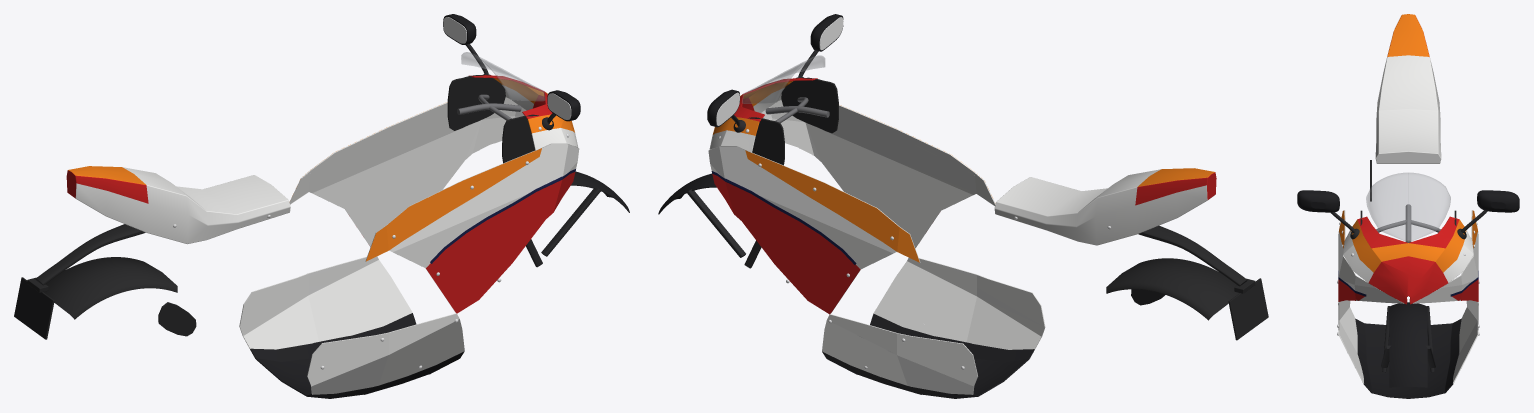
File: bike_superbike__bodywork.glb
The picture shows the model from 3 angles, left to right: view 1: azimuth 30°, elevation 25°; view 2: azimuth 150°, elevation 25°; view 3: azimuth 270°, elevation 25°; orthographic projection. The views are drawn at different scales.
Parts seen in each view (by area): view 1: frame_body__fairing__side_right, frame_body__tail_unit, frame_body__fairing__side_right__lower, frame_body__fairing__side_left__lower, frame_body__fairing__side_left__red, frame_body__fairing__side_left, frame_body__rear_hugger, frame_body__fairing__side_left__orange, frame_body__fairing__belly_pan, frame_body__fairing__inner_panels, frame_body__number_plate_hanger, frame_body__fairing__upper (+7 smaller); view 2: frame_body__fairing__side_left, frame_body__tail_unit, frame_body__fairing__side_left__lower, frame_body__fairing__side_right__lower, frame_body__fairing__side_right__red, frame_body__fairing__side_right, frame_body__rear_hugger, frame_body__fairing__side_right__orange, frame_body__fairing__belly_pan, frame_body__fairing__inner_panels, frame_body__number_plate_hanger, frame_body__fairing__upper (+7 smaller); view 3: frame_body__tail_unit, frame_body__fairing__upper, frame_body__fairing__screen, frame_body__fairing__belly_pan, frame_body__front_mudguard, frame_body__fairing__mirrors, frame_body__fairing__side_left, frame_body__fairing__side_right, frame_body__fairing__side_right__lower, frame_body__fairing__side_left__lower, frame_body__front_mudguard__brackets, frame_body__fairing__stay (+3 smaller).
Boxes of the visible parts, left/top/right/bottom form: frame_body__fairing__side_right: left=289, top=97, right=525, bottom=246; frame_body__tail_unit: left=66, top=166, right=290, bottom=244; frame_body__fairing__side_right__lower: left=239, top=256, right=412, bottom=349; frame_body__fairing__side_left__lower: left=307, top=313, right=464, bottom=394; frame_body__fairing__side_left__red: left=426, top=172, right=575, bottom=313; frame_body__fairing__side_left: left=365, top=144, right=579, bottom=311; frame_body__rear_hugger: left=43, top=257, right=196, bottom=336; frame_body__fairing__side_left__orange: left=366, top=148, right=541, bottom=261; frame_body__fairing__belly_pan: left=250, top=313, right=464, bottom=398; frame_body__fairing__inner_panels: left=447, top=75, right=538, bottom=163; frame_body__number_plate_hanger: left=14, top=224, right=145, bottom=339; frame_body__fairing__upper: left=469, top=75, right=577, bottom=150; frame_body__fairing__side_left: left=761, top=100, right=995, bottom=248; frame_body__tail_unit: left=994, top=168, right=1216, bottom=245; frame_body__fairing__side_left__lower: left=873, top=258, right=1045, bottom=349; frame_body__fairing__side_right__lower: left=822, top=314, right=977, bottom=394; frame_body__fairing__side_right__red: left=712, top=174, right=860, bottom=314; frame_body__fairing__side_right: left=708, top=146, right=920, bottom=312; frame_body__rear_hugger: left=1106, top=258, right=1239, bottom=320; frame_body__fairing__side_right__orange: left=745, top=150, right=919, bottom=262; frame_body__fairing__belly_pan: left=822, top=313, right=1034, bottom=398; frame_body__fairing__inner_panels: left=748, top=77, right=838, bottom=165; frame_body__number_plate_hanger: left=1138, top=225, right=1268, bottom=340; frame_body__fairing__upper: left=709, top=78, right=817, bottom=152; frame_body__tail_unit: left=1375, top=14, right=1441, bottom=163; frame_body__fairing__upper: left=1343, top=216, right=1473, bottom=304; frame_body__fairing__screen: left=1366, top=172, right=1450, bottom=242; frame_body__fairing__belly_pan: left=1355, top=318, right=1461, bottom=398; frame_body__front_mudguard: left=1389, top=302, right=1427, bottom=387; frame_body__fairing__mirrors: left=1297, top=190, right=1519, bottom=212; frame_body__fairing__side_left: left=1338, top=210, right=1403, bottom=330; frame_body__fairing__side_right: left=1413, top=210, right=1478, bottom=330; frame_body__fairing__side_right__lower: left=1453, top=300, right=1478, bottom=383; frame_body__fairing__side_left__lower: left=1338, top=300, right=1363, bottom=383; frame_body__front_mudguard__brackets: left=1381, top=306, right=1435, bottom=372; frame_body__fairing__stay: left=1376, top=204, right=1440, bottom=242.
Size of the model in its own units: 194 by 91.25 by 73.
